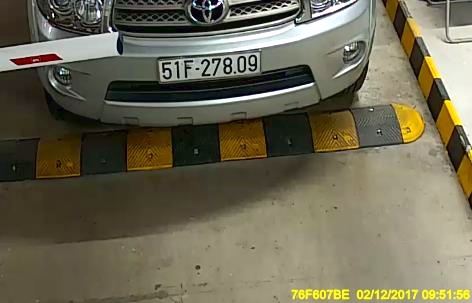plate: (155, 46, 263, 80)
